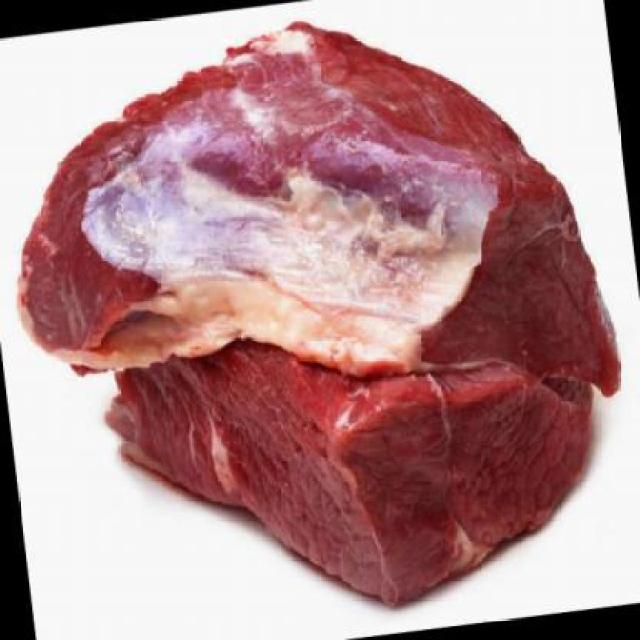beef: (0, 30, 640, 383), (100, 298, 606, 614)
